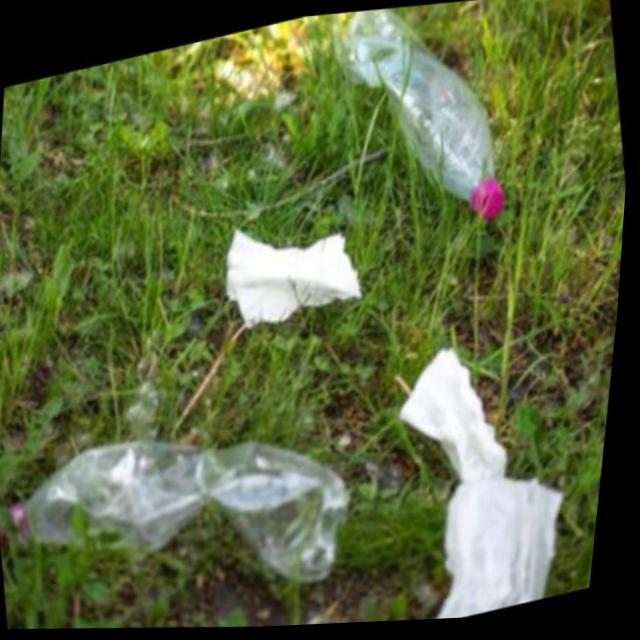food: (372, 313, 596, 626), (208, 175, 382, 361)
leaf: (0, 370, 376, 639), (305, 0, 540, 272)
